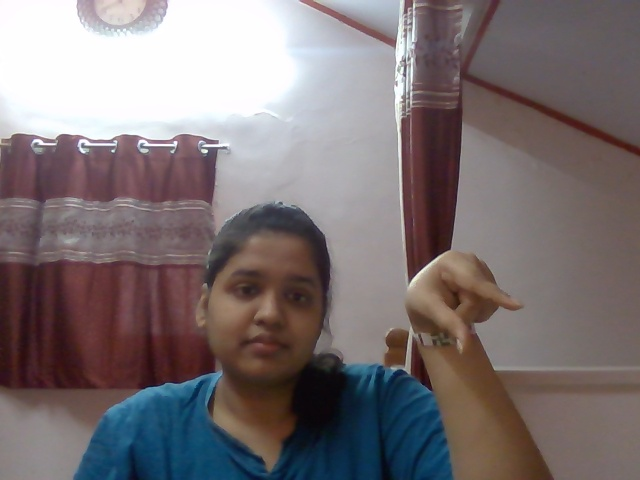q: (396, 243, 542, 358)
